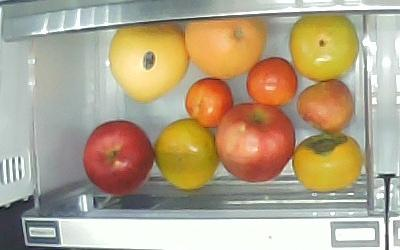apple: (215, 103, 296, 182), (83, 119, 153, 196)
grapefruit: (109, 22, 190, 102), (184, 18, 266, 79)
pear: (288, 12, 358, 83), (152, 117, 219, 190), (291, 132, 362, 193)
prune: (297, 78, 355, 134), (185, 77, 234, 128), (246, 57, 297, 106)
